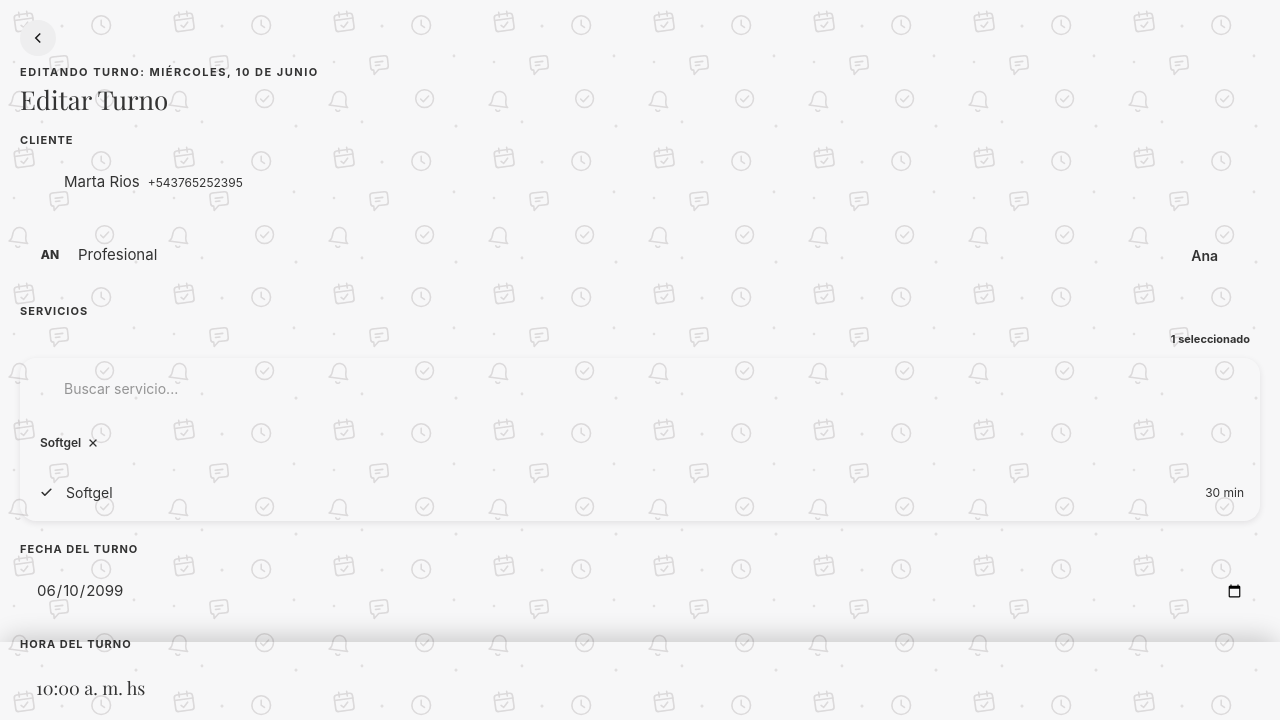
Scenario: EditarTurnoPage — selector de cliente › elegir otro cliente reemplaza al del turno
Click the text "Marta Rios" at coordinates (102, 182), box x1=64 y1=171 x2=140 y2=193
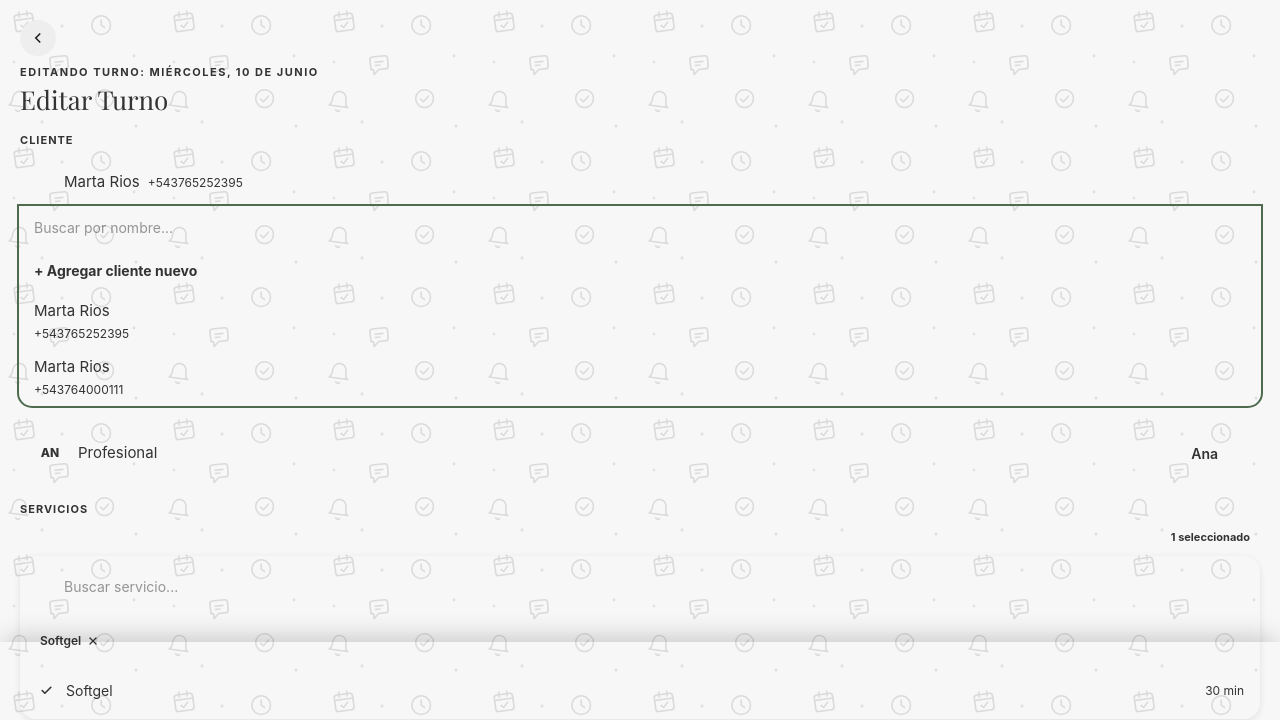
Click the text "+543764000111" at coordinates (79, 389), box x1=34 y1=382 x2=123 y2=397
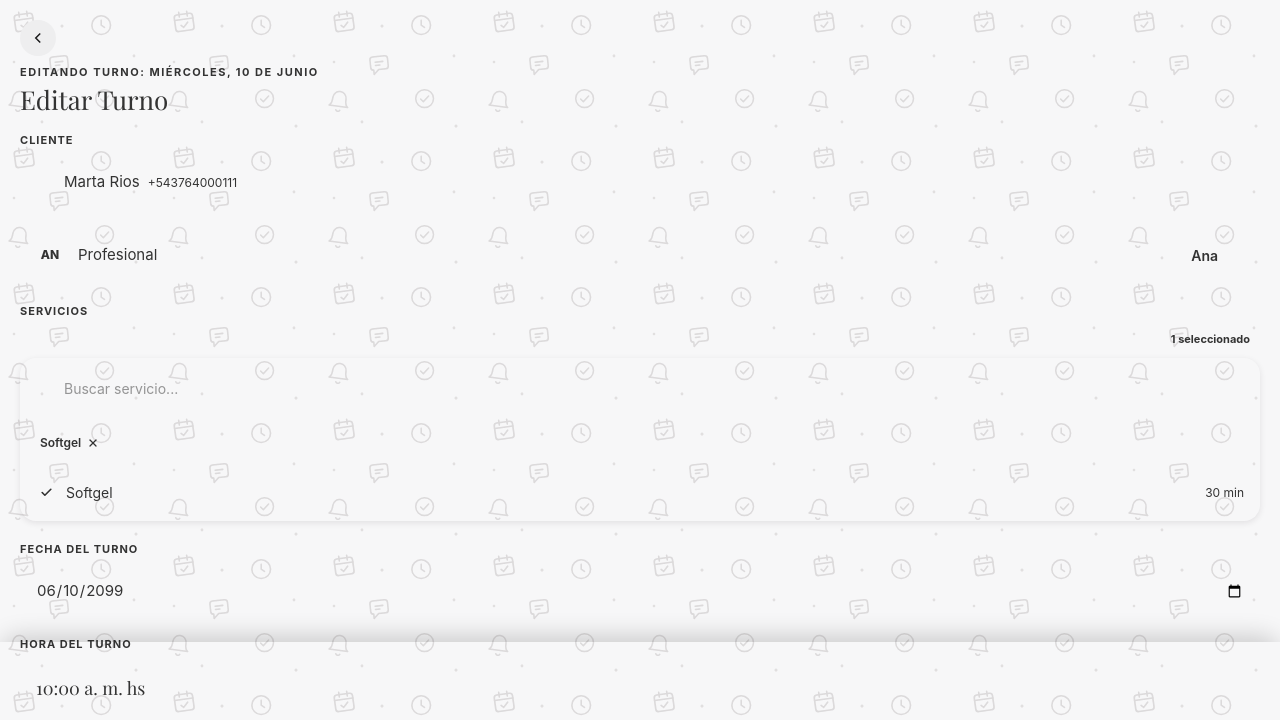
Now the text "+543765252395" is not shown
